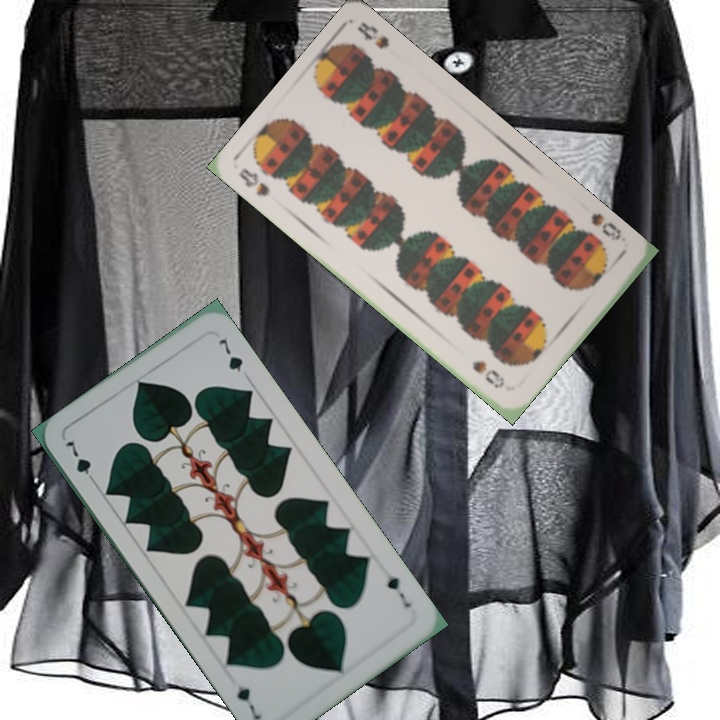G7: (61, 434, 100, 488), (383, 571, 414, 611)
S8: (234, 163, 273, 199), (587, 209, 625, 244)
